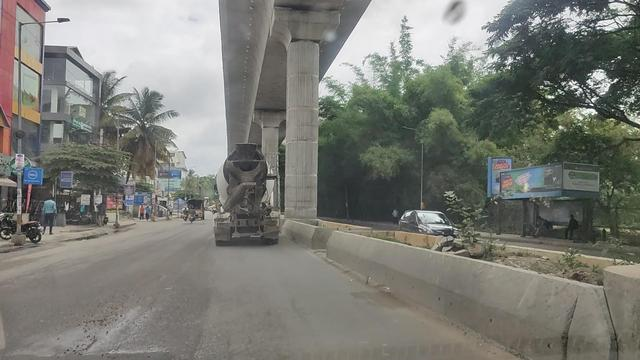HMV: (214, 143, 276, 237)
RoadDamages: (25, 307, 167, 357)
